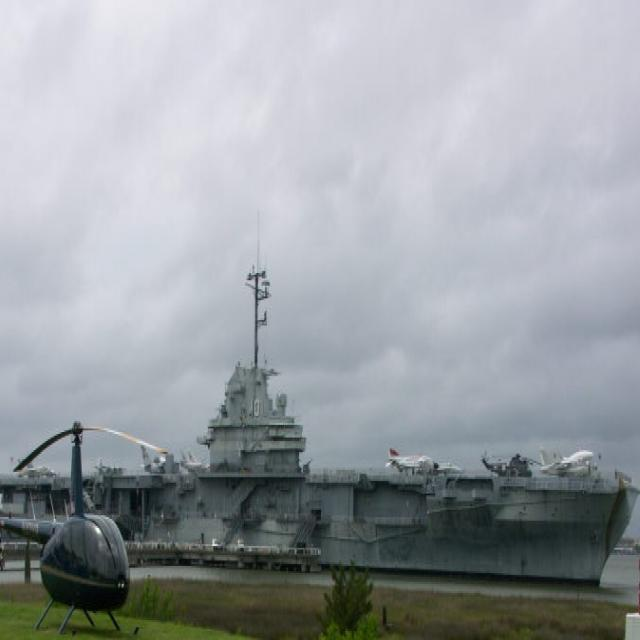Portanaves: (8, 249, 640, 605)
